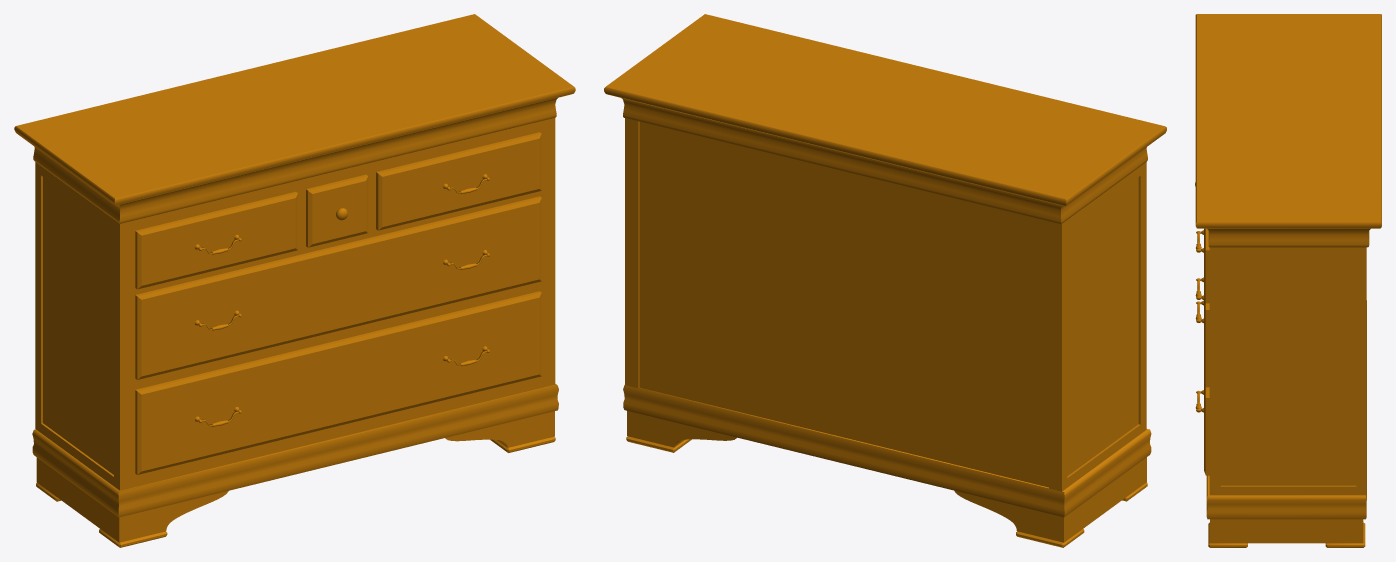
Rendered from COMODE 1.glb.
The picture shows the model from 3 angles, left to right: view 1: azimuth 30°, elevation 25°; view 2: azimuth 150°, elevation 25°; view 3: azimuth 270°, elevation 25°; orthographic projection. The views are drawn at different scales.
Parts seen in each view (by area): view 1: commode_2; view 2: commode_2; view 3: commode_2.
Boxes of the visible parts, <box> form: commode_2: <box>14,14,575,547</box>; commode_2: <box>604,14,1166,547</box>; commode_2: <box>1195,14,1381,547</box>.
Bounding box in the file's own units: 1.28 × 0.9519 × 0.4861.
